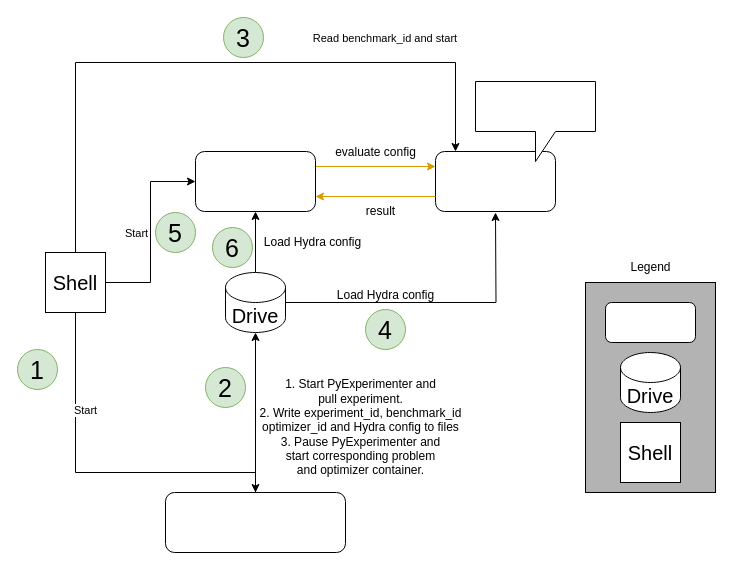
This 733x570 diagram has some shape labels left out. Here are the shapes that lost their labels. From the top down, the centre of each, then its label:
the point at 535,121: Webserver
the point at 255,181: Optimizer
the point at 495,181: Benchmark
the point at 650,322: Container
the point at 255,522: Runner (HydraInitializer)
